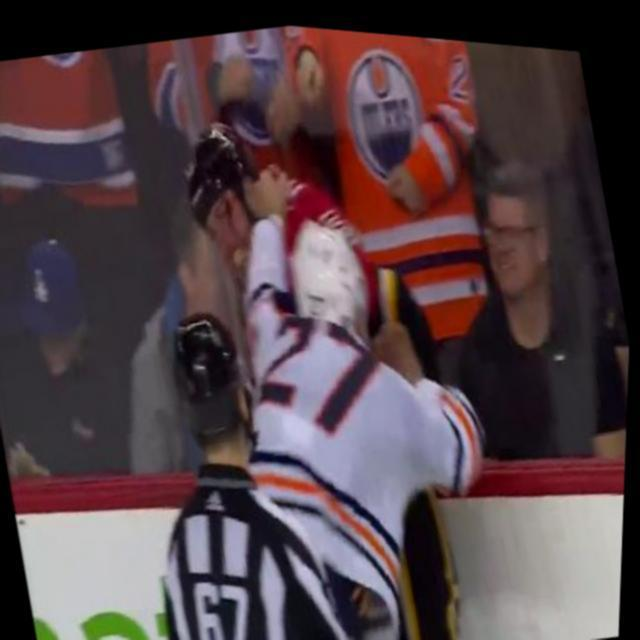fight: (160, 70, 538, 640)
